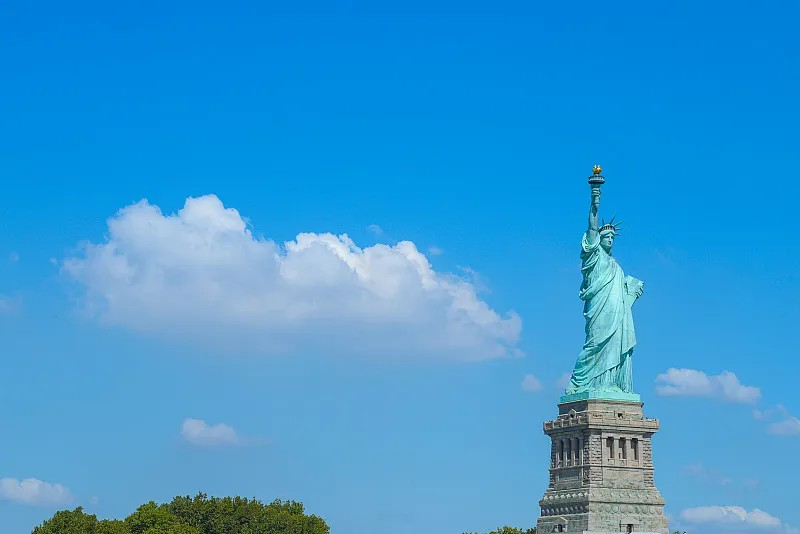SL: (536, 164, 670, 534)
